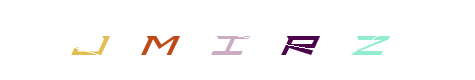I: (197, 0, 277, 80)
J: (66, 0, 146, 80)
M: (121, 0, 201, 80)
R: (251, 0, 331, 80)
Z: (261, 0, 341, 80)
